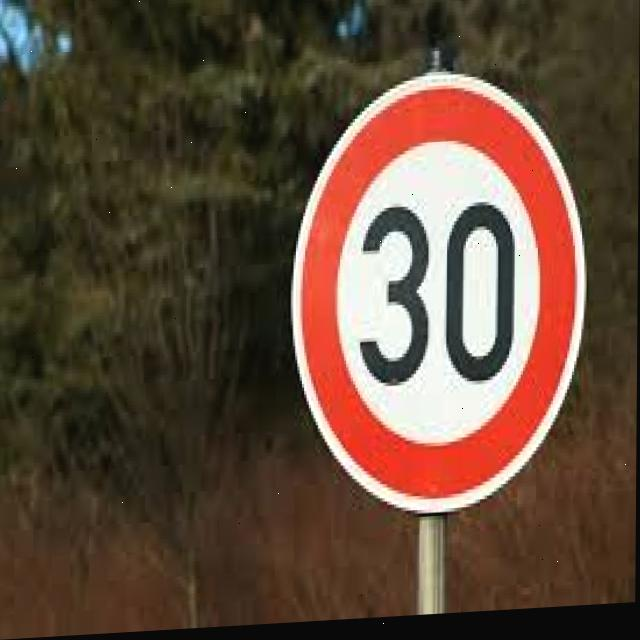Speed limit 30: (289, 64, 591, 529)
